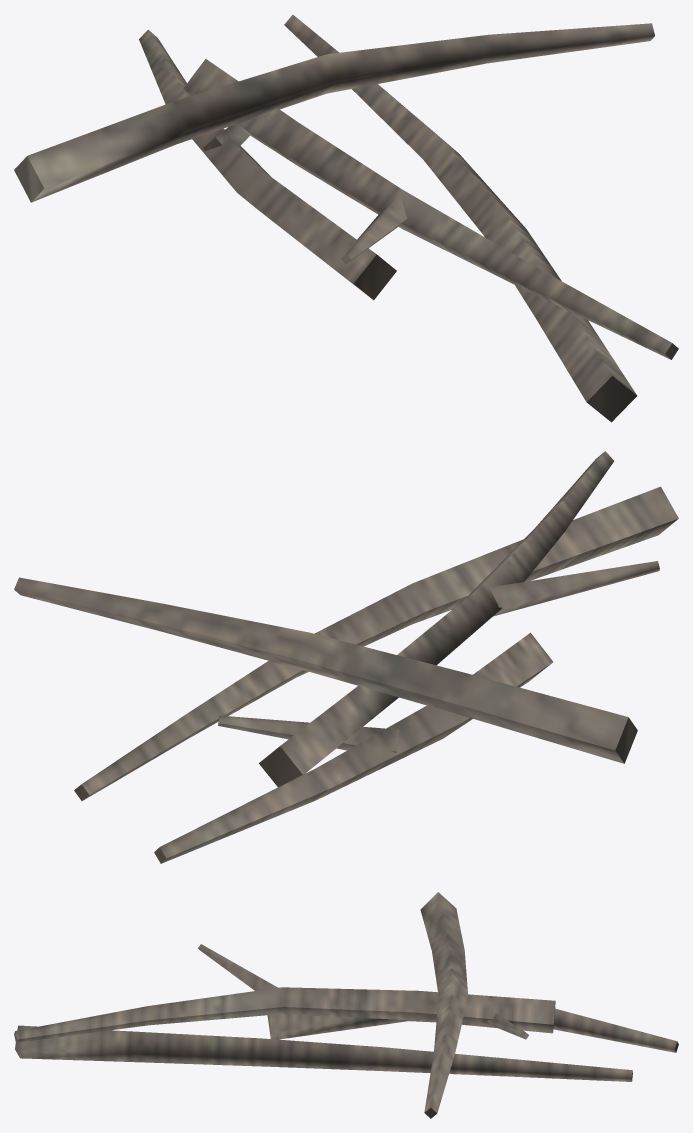
Rendered from twigs_03.glb.
3 renders of one model, top to bottom at view 1: azimuth 30°, elevation 25°; view 2: azimuth 150°, elevation 25°; view 3: azimuth 270°, elevation 25°, orthographic. The views are drawn at different scales.
Parts seen in each view (by area): view 1: twigs_03; view 2: twigs_03; view 3: twigs_03.
Boxes of the visible parts, x1,y1,x2,y2 form: twigs_03: [14, 14, 678, 422]; twigs_03: [14, 451, 678, 863]; twigs_03: [14, 892, 678, 1118].
Bounding box in the file's own units: 0.5771 × 0.113 × 0.7884.
1 material, 1 textured.
